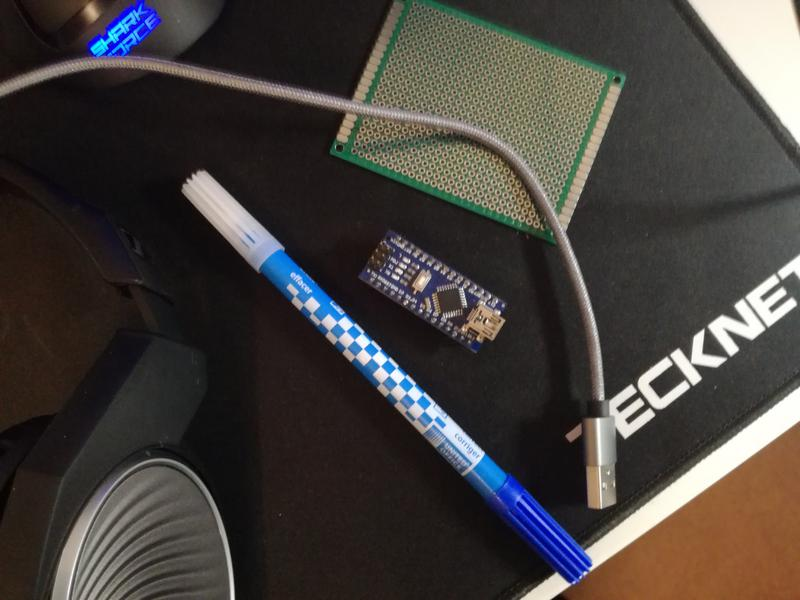Arduino_Nano: (356, 225, 514, 356)
